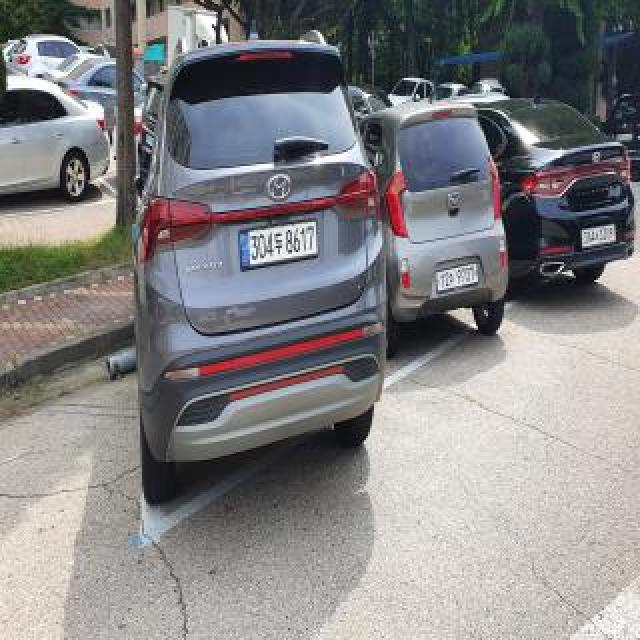car: (130, 32, 387, 504)
illegal_plate: (238, 218, 319, 274)
